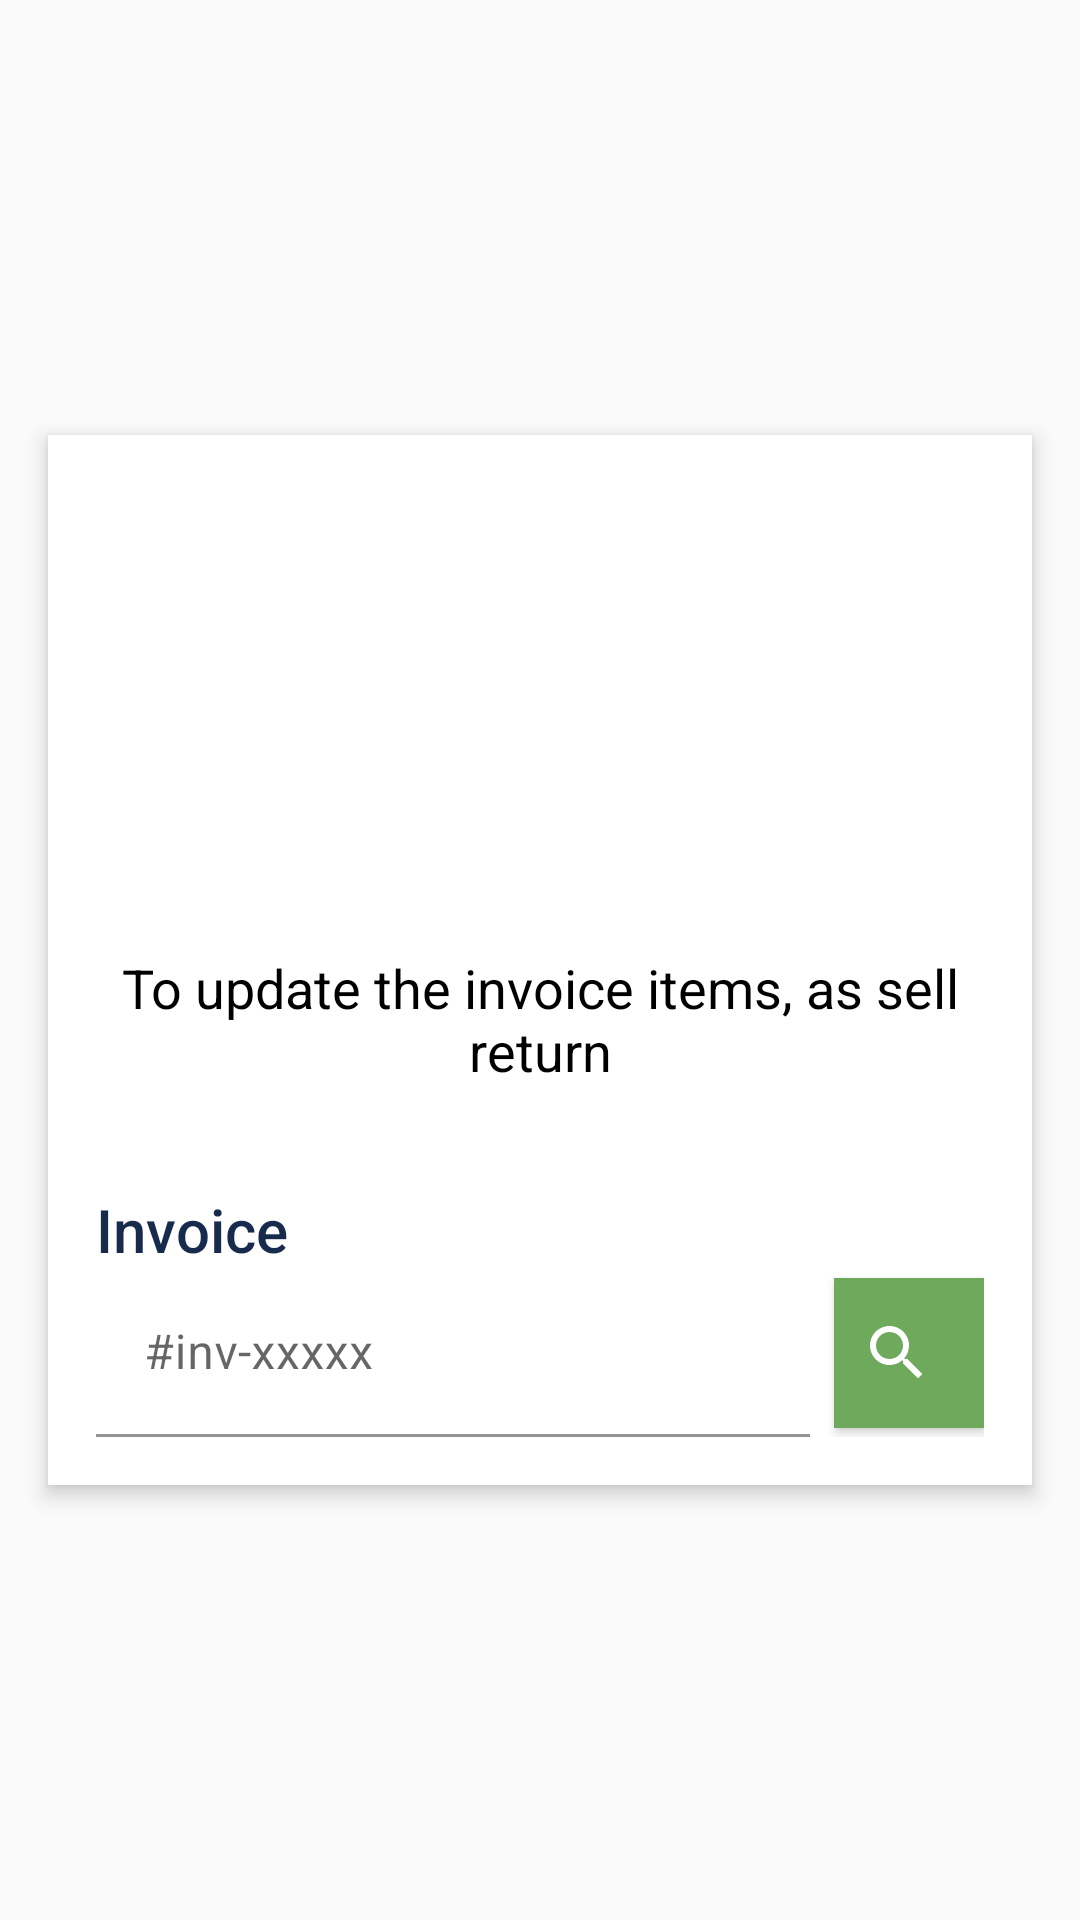

Icons on this 1080px×1920px Android screen, each with its box as (x1, y1, x2, y2):
search: (834, 1278, 984, 1428)
